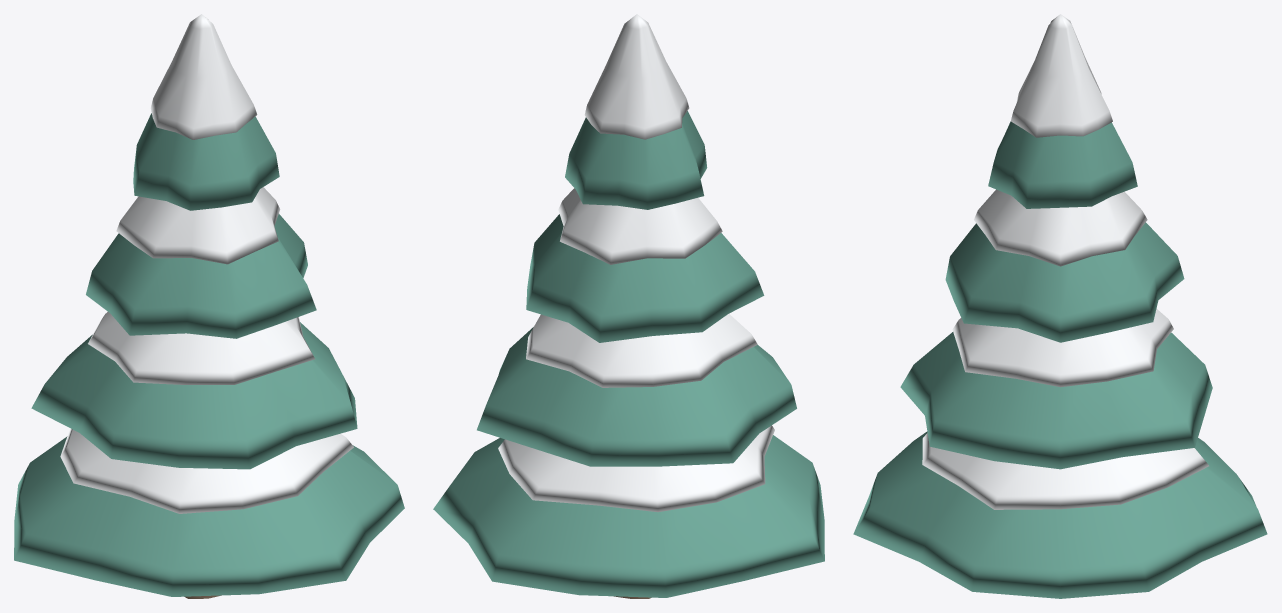
The model's file is SpleefPine.glb.
3 views of the same model, side by side, from view 1: azimuth 30°, elevation 25°; view 2: azimuth 150°, elevation 25°; view 3: azimuth 270°, elevation 25° (orthographic).
Visible parts, largest first — view 1: Needles, Snow; view 2: Needles, Snow; view 3: Needles, Snow.
Boxes of the visible parts, left/top/right/bottom form: Needles: left=14, top=113, right=404, bottom=596; Snow: left=60, top=14, right=353, bottom=513; Needles: left=433, top=111, right=824, bottom=597; Snow: left=498, top=14, right=774, bottom=512; Needles: left=853, top=121, right=1267, bottom=598; Snow: left=922, top=14, right=1208, bottom=509.
Bounding box in the file's own units: 10.31 × 15.61 × 10.25.
